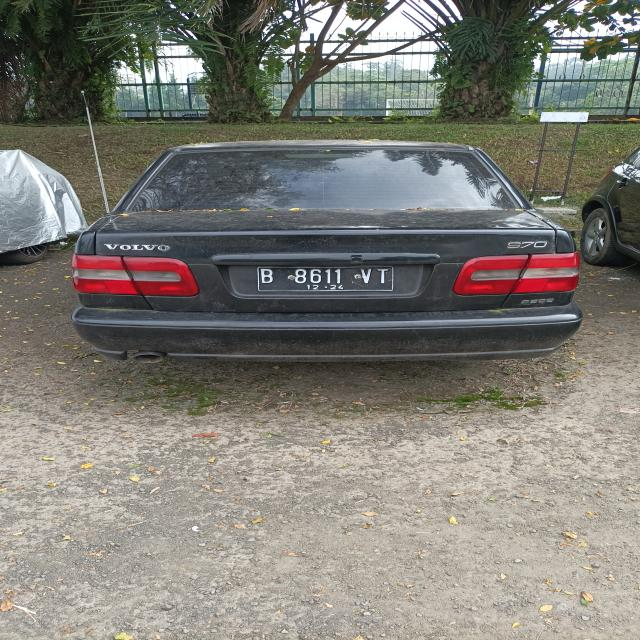license-plat: (241, 265, 406, 300)
